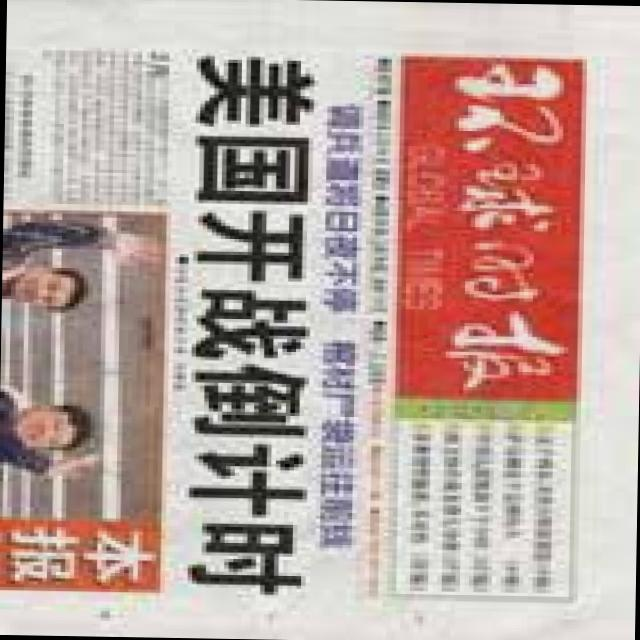paper: (0, 10, 619, 640)
